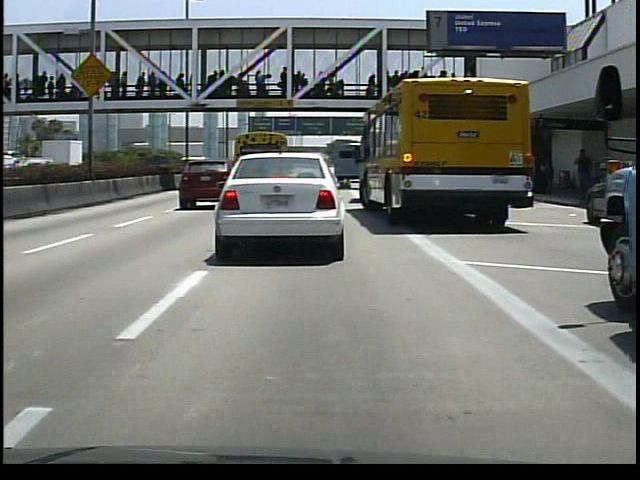person: (570, 145, 598, 207)
